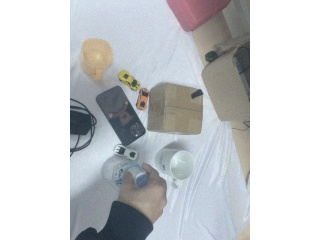bottle: (100, 151, 162, 190)
box: (202, 44, 249, 121), (147, 83, 203, 135)
cup: (79, 37, 114, 82), (154, 146, 195, 180)
mouse: (70, 108, 95, 138)
phone: (95, 85, 146, 146)
toy_car: (118, 69, 142, 92), (112, 142, 140, 159), (136, 88, 150, 111)
